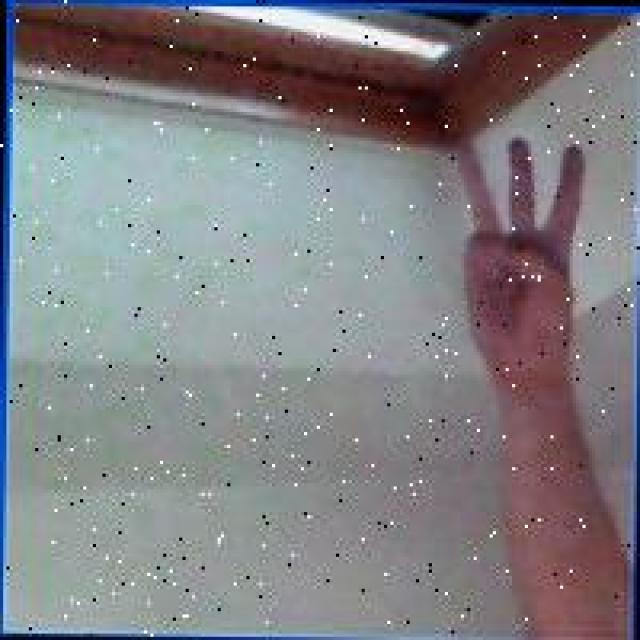W: (445, 133, 592, 370)
